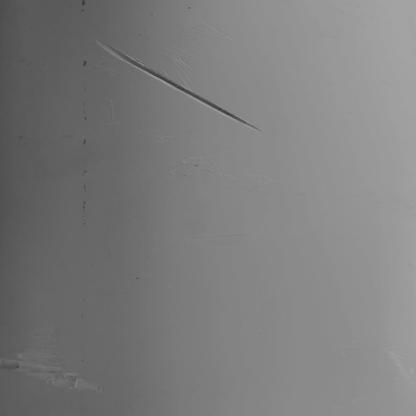sunshang: (99, 40, 262, 132), (1, 342, 110, 392)
